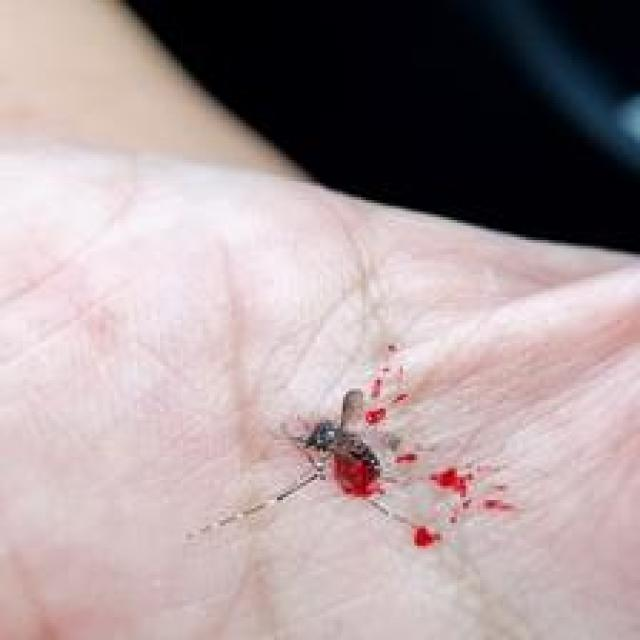Aedes albopictus: (185, 340, 524, 551)
